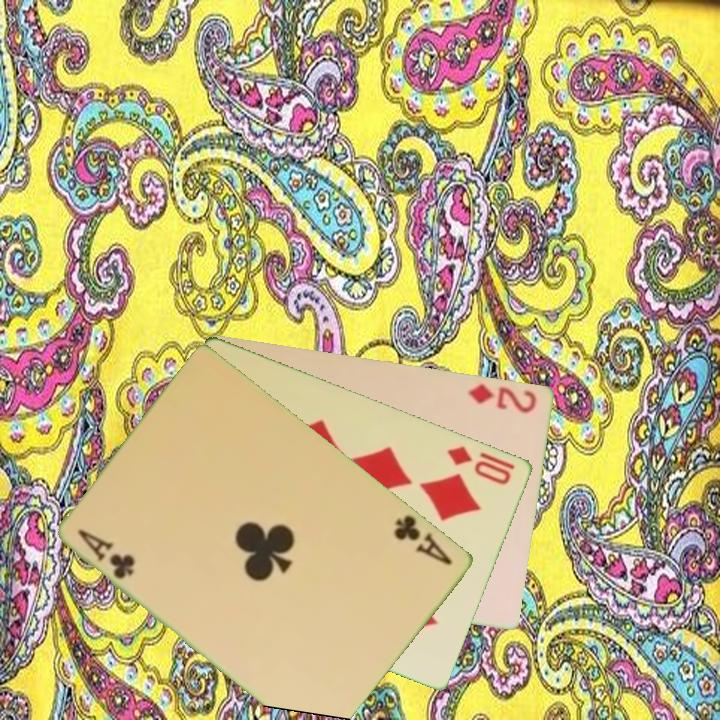10d: (444, 442, 515, 488)
2d: (465, 380, 540, 416)
Ac: (74, 525, 139, 583), (390, 511, 456, 568)
